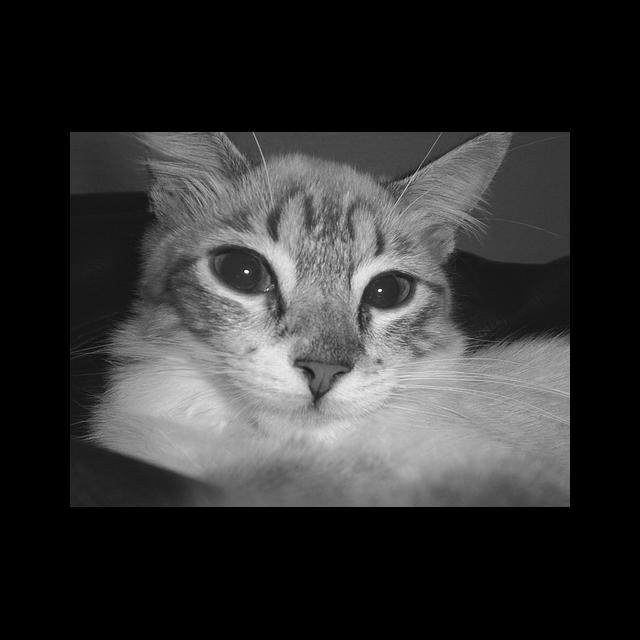animals: (145, 133, 524, 400)
